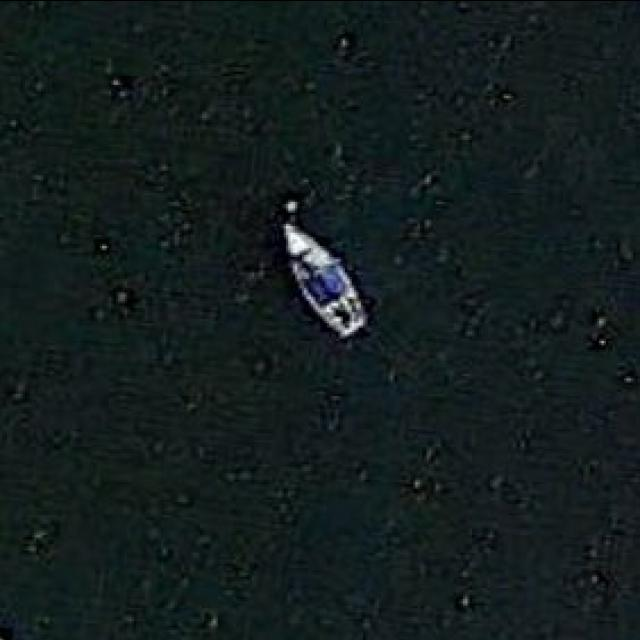ship: (280, 218, 368, 340)
